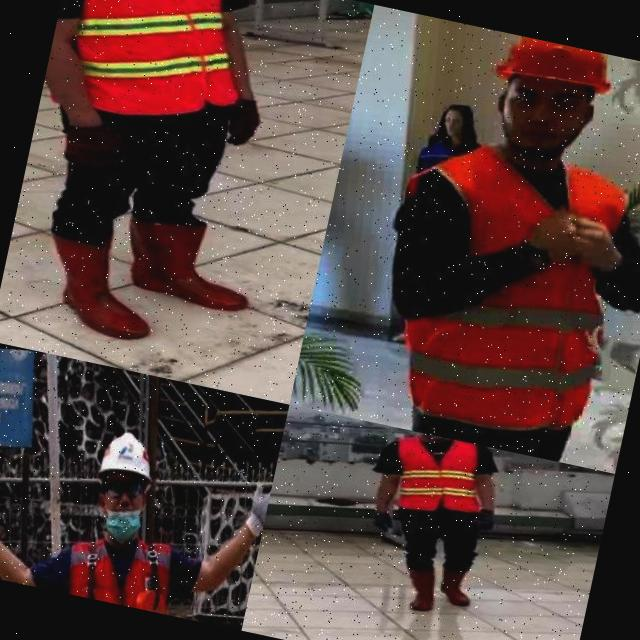boots: (110, 196, 265, 330), (33, 215, 170, 352), (395, 558, 447, 618), (430, 560, 481, 612)
helmet: (484, 31, 620, 108), (90, 419, 164, 495)
vest: (349, 112, 640, 472), (39, 0, 258, 139), (62, 517, 212, 621), (383, 428, 492, 527)
